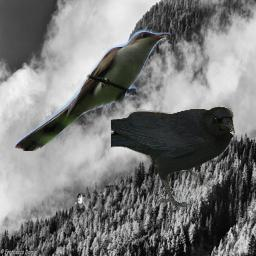Crow: (111, 106, 235, 210)
Cuckoo: (14, 29, 170, 151)
